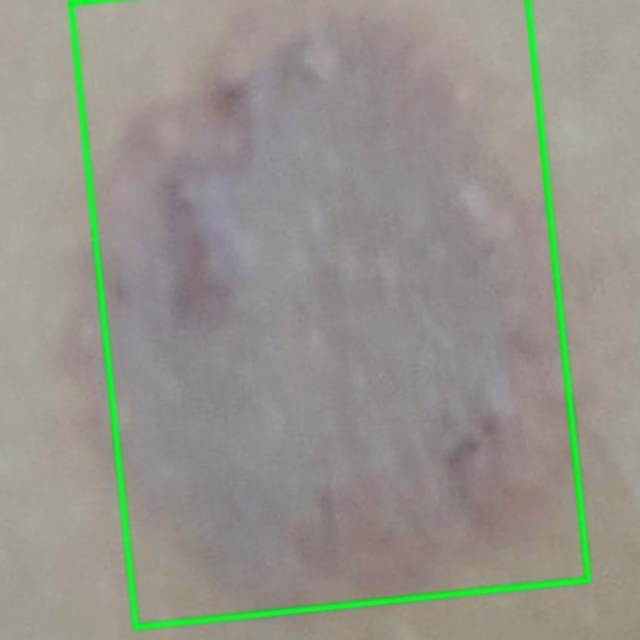Eczema: (70, 0, 588, 627)
